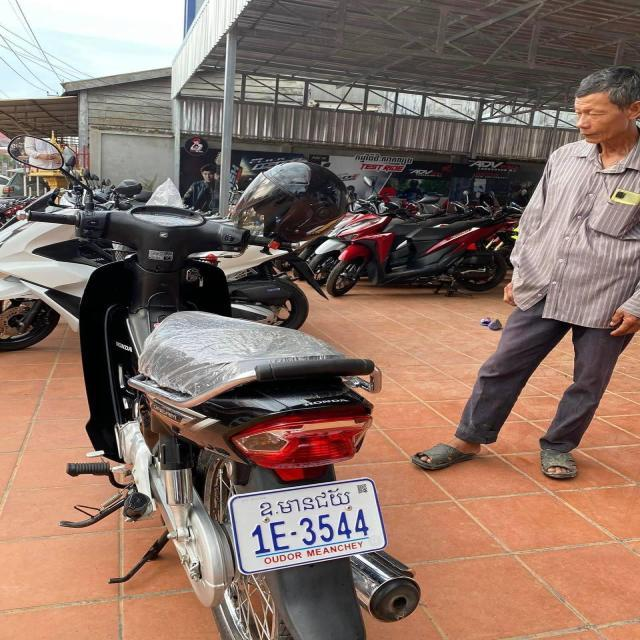Oudor_Meanchey: (256, 485, 354, 519)
